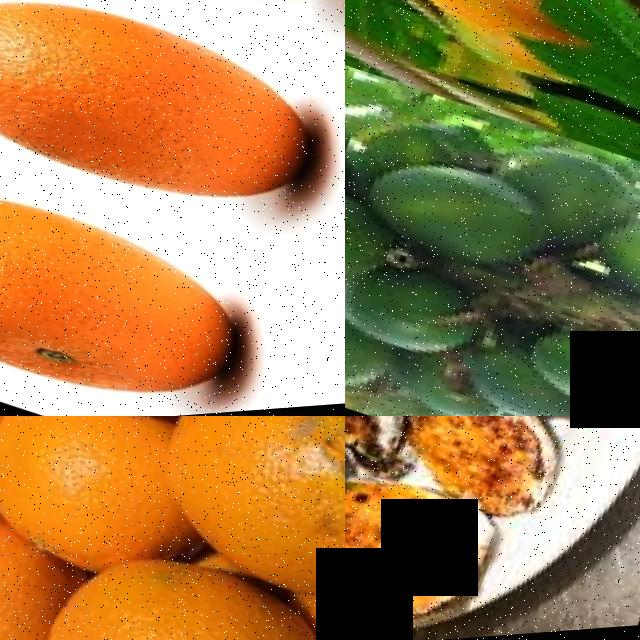orange: (0, 0, 343, 269), (0, 128, 270, 416), (127, 416, 345, 640), (9, 523, 345, 640), (0, 416, 181, 585), (0, 0, 345, 74), (0, 489, 77, 640)
pawpaw: (359, 138, 553, 296), (489, 128, 637, 244), (345, 244, 476, 374), (511, 312, 640, 416), (371, 0, 565, 55), (581, 202, 640, 338), (345, 286, 401, 416), (345, 155, 386, 295)
